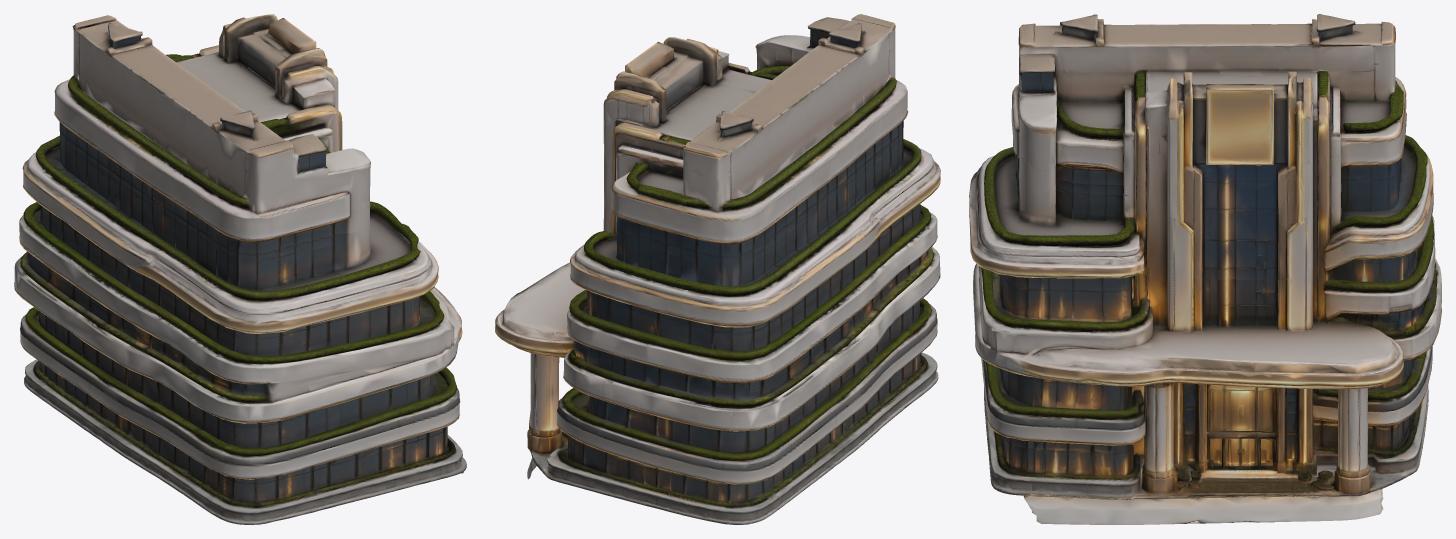
Rendered from level-5-web.glb.
3 views of the same model, side by side, from view 1: azimuth 30°, elevation 25°; view 2: azimuth 150°, elevation 25°; view 3: azimuth 270°, elevation 25° (orthographic). The views are drawn at different scales.
Visible parts, largest first — view 1: tripo_node_d1c99b63-5841-444a-8c9b-63193e8ddddd; view 2: tripo_node_d1c99b63-5841-444a-8c9b-63193e8ddddd; view 3: tripo_node_d1c99b63-5841-444a-8c9b-63193e8ddddd.
Boxes of the visible parts, x1,y1,x2,y2 form: tripo_node_d1c99b63-5841-444a-8c9b-63193e8ddddd: (14,14,466,524); tripo_node_d1c99b63-5841-444a-8c9b-63193e8ddddd: (495,14,940,524); tripo_node_d1c99b63-5841-444a-8c9b-63193e8ddddd: (969,14,1441,524).
Bounding box in the file's own units: 0.7284 × 0.9201 × 0.9797.
1 material, 1 textured.
